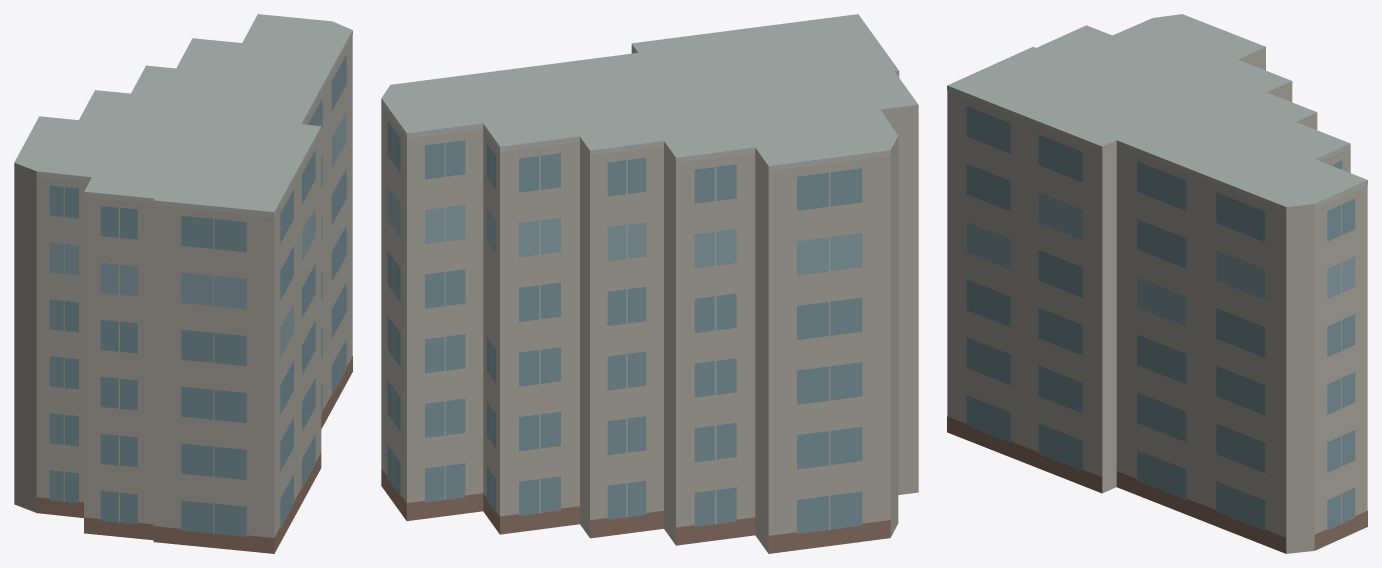
Rendered from survey-upis-32932004.glb.
The picture shows the model from 3 angles, left to right: view 1: azimuth 30°, elevation 25°; view 2: azimuth 150°, elevation 25°; view 3: azimuth 270°, elevation 25°; orthographic projection. The views are drawn at different scales.
Parts seen in each view (by area): view 1: survey-upis-32932004.tmp; view 2: survey-upis-32932004.tmp; view 3: survey-upis-32932004.tmp.
Part boxes in pixels (<box>): survey-upis-32932004.tmp: <box>14,14,352,553</box>; survey-upis-32932004.tmp: <box>381,14,918,553</box>; survey-upis-32932004.tmp: <box>947,14,1367,553</box>.
Size of the model in its own units: 20.54 by 17.2 by 18.91.
